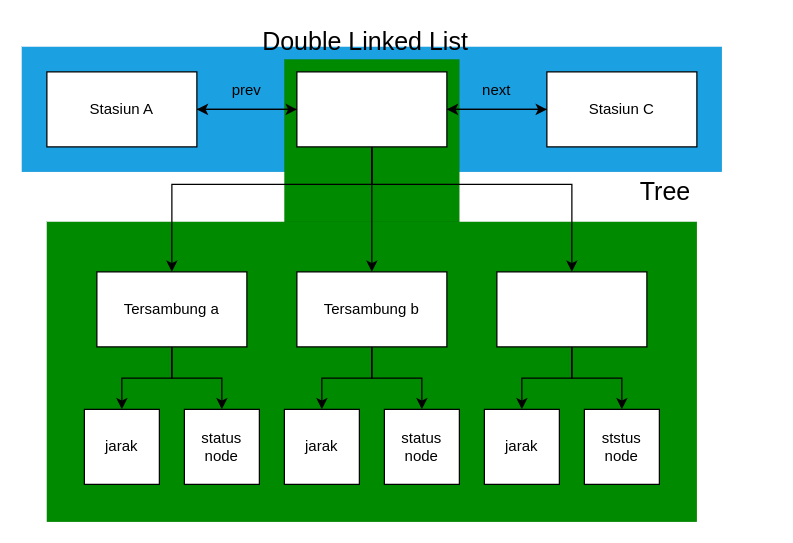
The diagram is 793 pixels wide and 543 high, and some of its shapes have lost their labels. The centre of each missing label's shape, as x and y in pixels:
Stasiun B: the point at 371,109
Tersambung c: the point at 571,309
